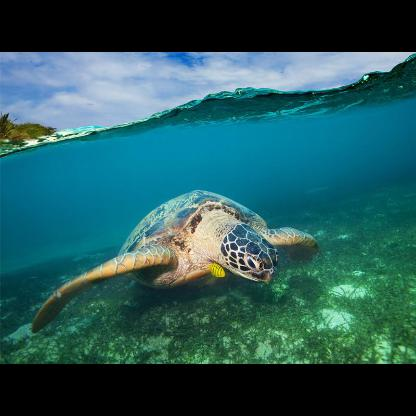turtle: (29, 188, 320, 334)
